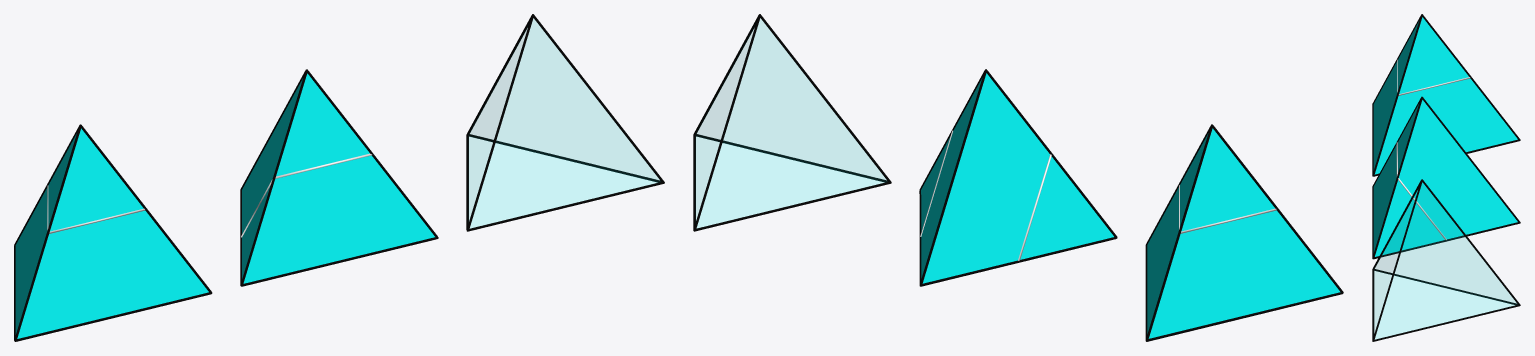
File: canonicalnonorientable.glb
3 views of the same model, side by side, from view 1: azimuth 30°, elevation 25°; view 2: azimuth 150°, elevation 25°; view 3: azimuth 270°, elevation 25° (orthographic). The views are drawn at different scales.
Visible parts, largest first — view 1: Circle, Circle.001, windows, frame, skeleton, skeleton.001; view 2: Circle, Circle.001, windows, frame, skeleton, skeleton.001, quad_intersection; view 3: Circle.001, windows, Circle, frame, skeleton.001, skeleton, quad_intersection, triangle_intersection.
Boxes of the visible parts, x1,y1,x2,y2 form: Circle: [15, 128, 208, 338]; Circle.001: [242, 73, 434, 283]; windows: [469, 19, 659, 227]; frame: [466, 14, 664, 231]; skeleton: [14, 124, 212, 341]; skeleton.001: [240, 69, 438, 286]; Circle: [1147, 128, 1340, 338]; Circle.001: [921, 73, 1113, 283]; windows: [696, 19, 886, 227]; frame: [693, 14, 891, 231]; skeleton: [1145, 124, 1343, 341]; skeleton.001: [919, 69, 1117, 286]; quad_intersection: [920, 130, 1051, 260]; Circle.001: [1373, 100, 1517, 256]; windows: [1374, 183, 1516, 338]; Circle: [1373, 17, 1517, 174]; frame: [1372, 179, 1520, 341]; skeleton.001: [1372, 96, 1520, 259]; skeleton: [1372, 14, 1520, 176]; quad_intersection: [1396, 142, 1446, 239]; triangle_intersection: [1397, 59, 1470, 95].
Size of the model in its own units: 5.75 by 1.43 by 1.52.
